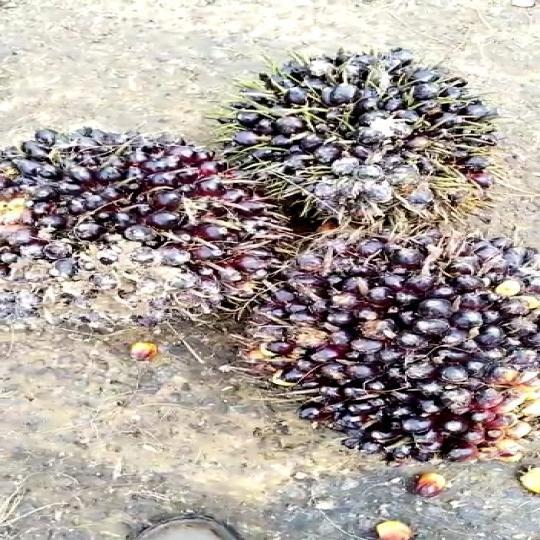mentah: (233, 226, 540, 461), (0, 110, 279, 354), (198, 49, 535, 234)
